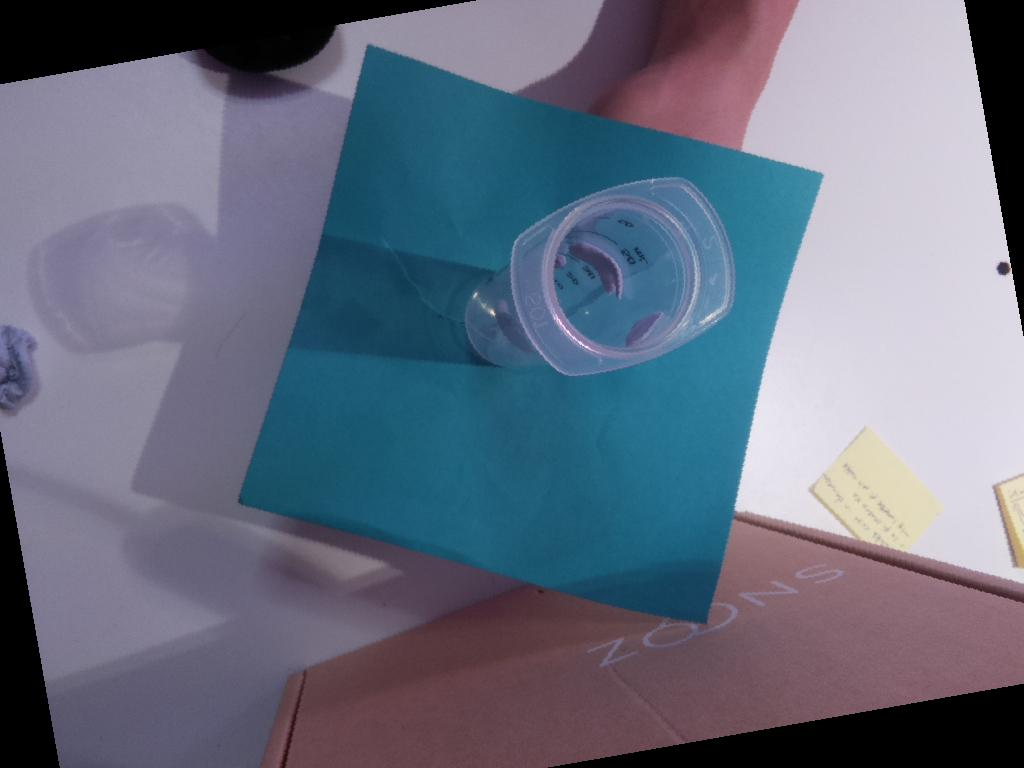dirty: (511, 174, 737, 375)
